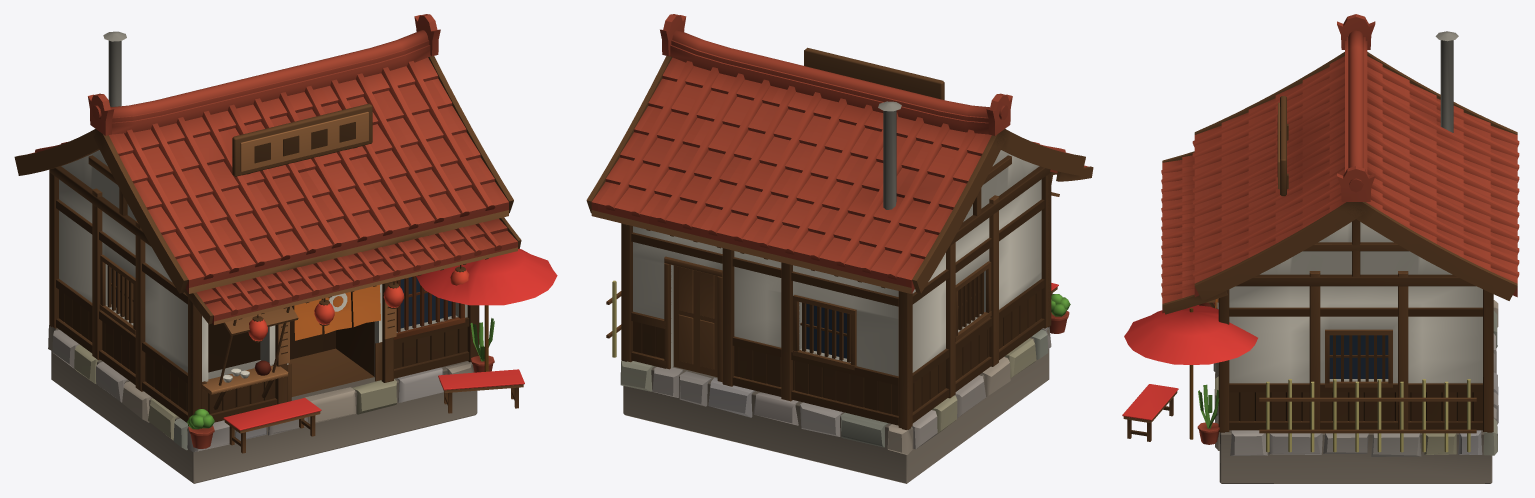
Rendered from kawabe-shop.glb.
The picture shows the model from 3 angles, left to right: view 1: azimuth 30°, elevation 25°; view 2: azimuth 150°, elevation 25°; view 3: azimuth 270°, elevation 25°; orthographic projection. The views are drawn at different scales.
Visible parts, largest first — view 1: Kawabe shop Roof tile, Kawabe shop Wood, Kawabe shop Plaster, Kawabe shop Signal red, Kawabe shop Noren, Kawabe shop Lantern glow, Kawabe shop Window glow, Kawabe shop Leaf; view 2: Kawabe shop Roof tile, Kawabe shop Wood, Kawabe shop Plaster, Kawabe shop Window glow; view 3: Kawabe shop Roof tile, Kawabe shop Plaster, Kawabe shop Wood, Kawabe shop Signal red, Kawabe shop Window glow, Kawabe shop Leaf.
Part boxes in pixels (x1,y1,x2,y2): Kawabe shop Roof tile: (28, 14, 517, 448); Kawabe shop Wood: (14, 56, 523, 453); Kawabe shop Plaster: (48, 31, 477, 483); Kawabe shop Signal red: (223, 248, 557, 430); Kawabe shop Noren: (294, 285, 380, 340); Kawabe shop Lantern glow: (248, 270, 469, 341); Kawabe shop Window glow: (111, 268, 451, 328); Kawabe shop Leaf: (187, 318, 494, 429); Kawabe shop Roof tile: (591, 14, 1087, 333); Kawabe shop Wood: (586, 47, 1093, 429); Kawabe shop Plaster: (612, 101, 1051, 483); Kawabe shop Window glow: (806, 303, 846, 358); Kawabe shop Roof tile: (1161, 14, 1519, 444); Kawabe shop Plaster: (1213, 31, 1498, 483); Kawabe shop Wood: (1123, 52, 1517, 441); Kawabe shop Signal red: (1122, 305, 1257, 420); Kawabe shop Window glow: (1329, 335, 1388, 378); Kawabe shop Leaf: (1198, 384, 1219, 428).
Bounding box in the file's own units: 6.86 × 6.35 × 6.78.
